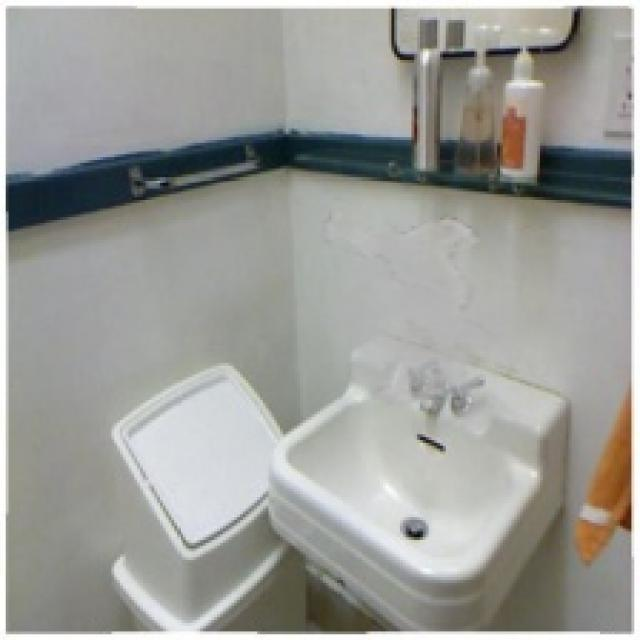Smoke: (317, 212, 569, 452)
